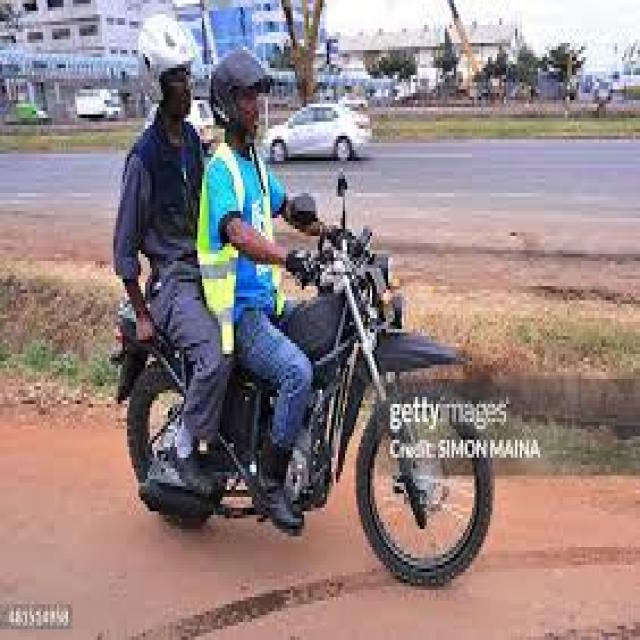bodaboda: (47, 158, 547, 606)
